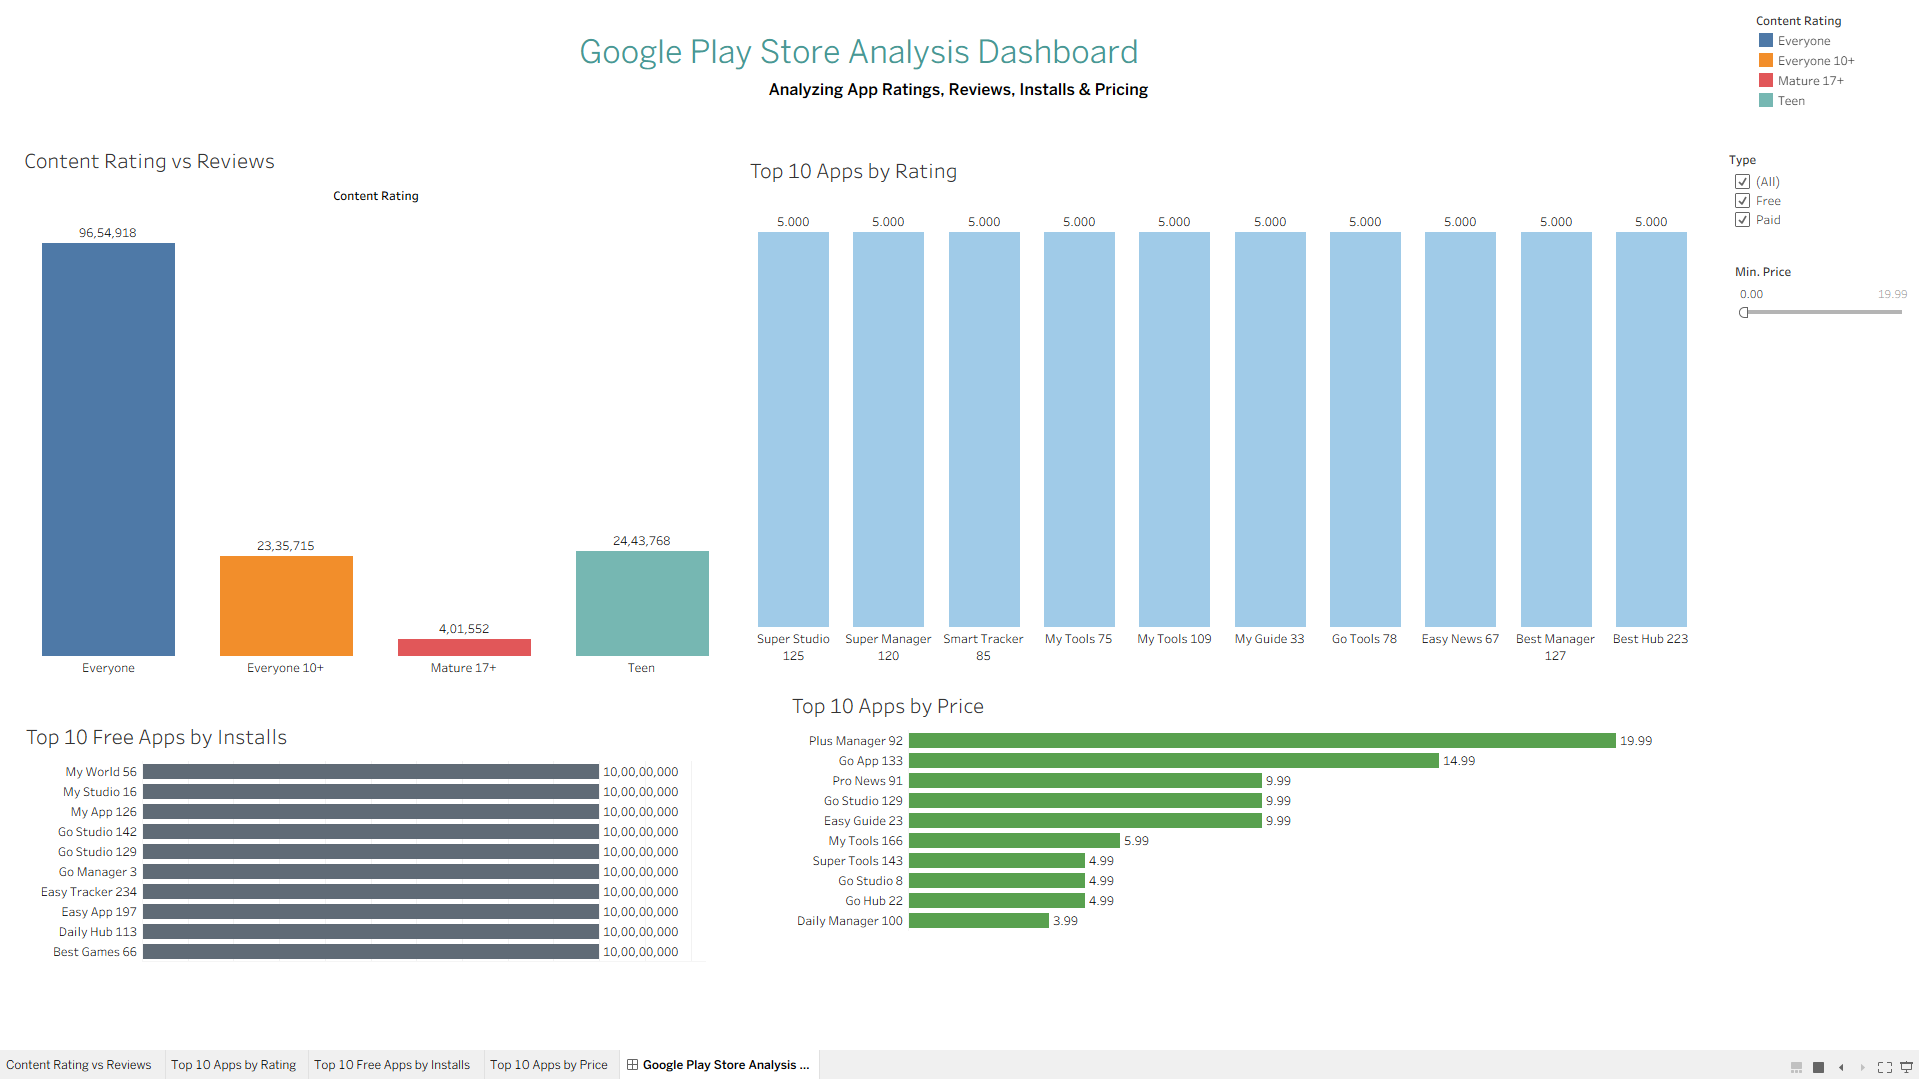

Layout of this report page (visuals, bound fields, positions):
{"tool":"tableau","page":{"name":"Google Play Store Analysis Dashboard","canvas":[1000,1000],"units":"permille","ordinal":0},"visuals":[{"type":"text","box":[175,8.9,544.8,80.4]},{"type":"legend","title":"Content Rating vs Reviews","param":"[federated.0u2me0l14f5w3n102c10q1df6gpa].[none:Content Rating:nk]","box":[901.7,8.9,93.6,118.3]},{"type":"text","box":[372.7,59.1,252.8,53.6]},{"type":"worksheet","title":"Content Rating vs Reviews","mark":"Bar","rows":["Reviews"],"cols":["Content Rating"],"box":[10.5,135,370.4,527.9]},{"type":"filter","title":"Top 10 Free Apps by Installs","param":"[federated.0u2me0l14f5w3n102c10q1df6gpa].[none:Type:nk]","box":[900.5,144,93.6,90.4]},{"type":"worksheet","title":"Top 10 Apps by Rating","mark":"Automatic","rows":["Rating"],"cols":["App"],"box":[388.5,145.1,496.2,500]},{"type":"filter","title":"Top 10 Apps by Price","param":"[federated.0u2me0l14f5w3n102c10q1df6gpa].[min:Price:qk]","box":[903.5,250,93.6,68.1]},{"type":"worksheet","title":"Top 10 Apps by Price","mark":"Automatic","rows":["App"],"cols":["Price"],"box":[410.2,654,471,310.3]},{"type":"worksheet","title":"Top 10 Free Apps by Installs","mark":"Automatic","rows":["App"],"cols":["Installs_Numeric"],"box":[11.7,684.1,356.4,292.4]}]}

Visuals, with their boxes on the dashboard's canvas, which has no fixed pixel size, in thousandths of its width and height (x1, y1, x2, y2). These are canvas units, not pixel positions in the 1919x1079 screenshot, which may show the page scaled, cropped or inside an application window:
text: [175, 9, 720, 89]
"Content Rating vs Reviews" legend: [902, 9, 995, 127]
text: [373, 59, 626, 113]
"Content Rating vs Reviews" worksheet (Bar marks): [10, 135, 381, 663]
"Top 10 Free Apps by Installs" filter: [900, 144, 994, 234]
"Top 10 Apps by Rating" worksheet: [388, 145, 885, 645]
"Top 10 Apps by Price" filter: [904, 250, 997, 318]
"Top 10 Apps by Price" worksheet: [410, 654, 881, 964]
"Top 10 Free Apps by Installs" worksheet: [12, 684, 368, 976]
